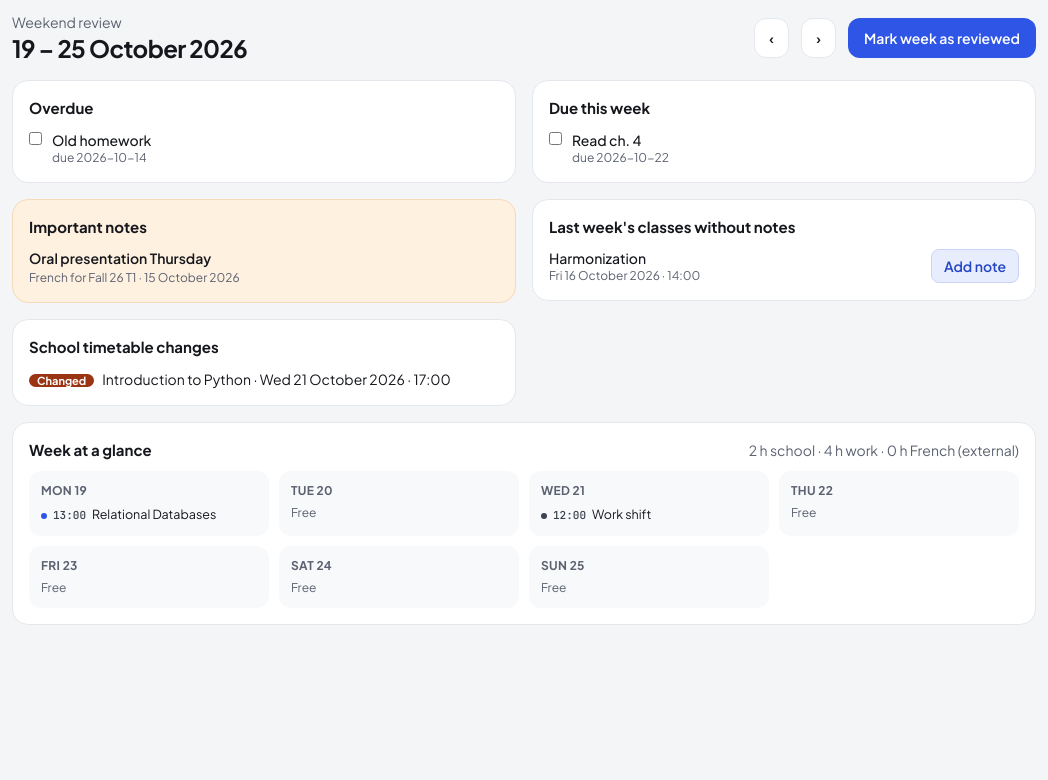
it: ReviewPage › marks the week reviewed and moves between weeks
This screenshot has width=1048, height=780.
Click the button "Mark week as reviewed". click: x=942, y=38
box: [848,18,1036,58]
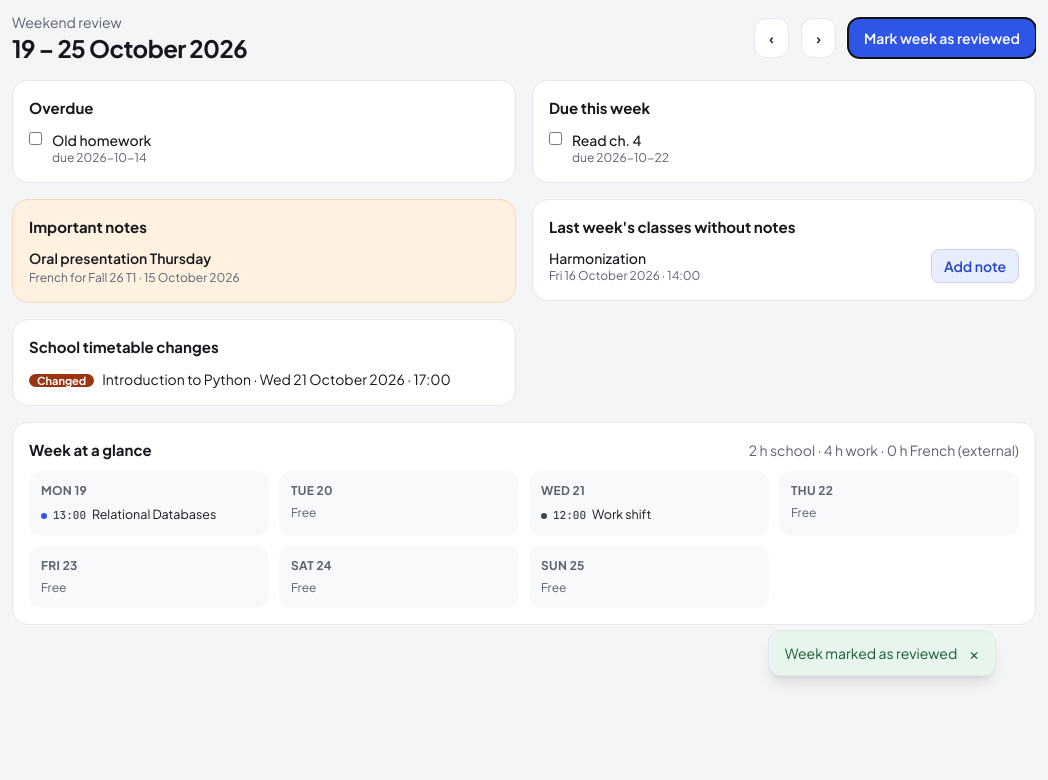
Click the button named "Next week". click: x=819, y=38
box: [801,18,836,58]
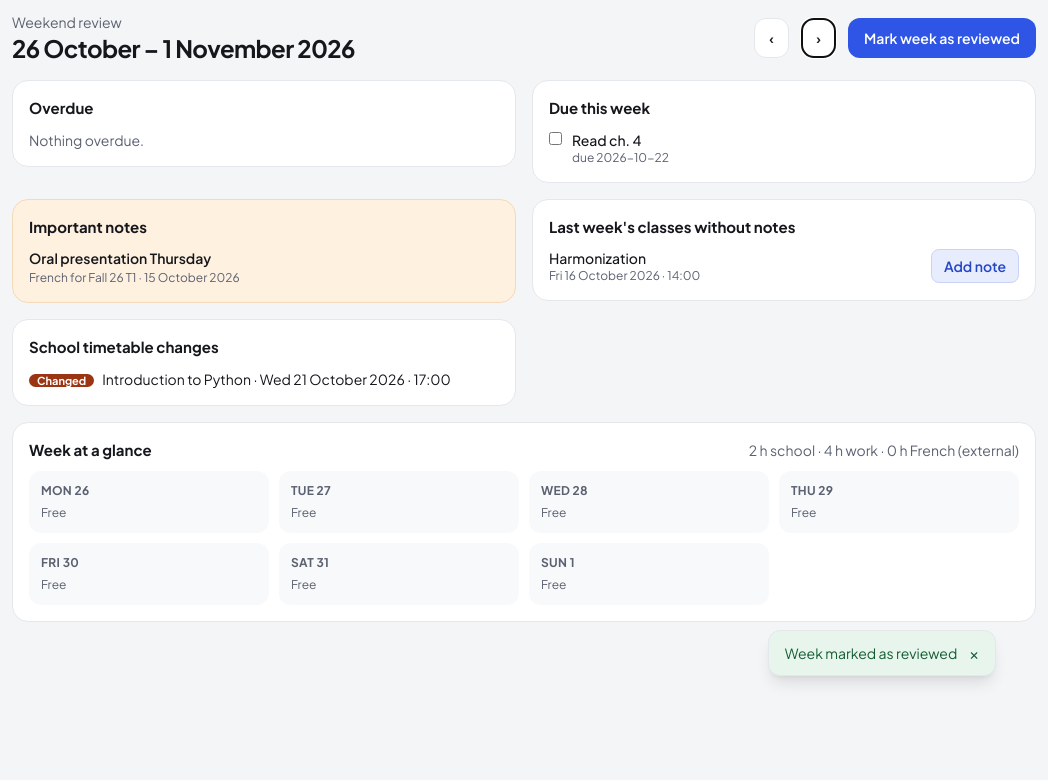
Expected: the heading "26 October – 1 November 2026" is shown, [12,32,355,64]
